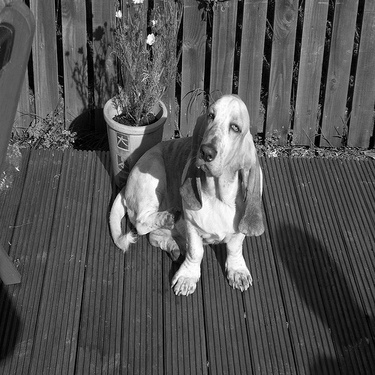dog: (107, 89, 276, 305)
